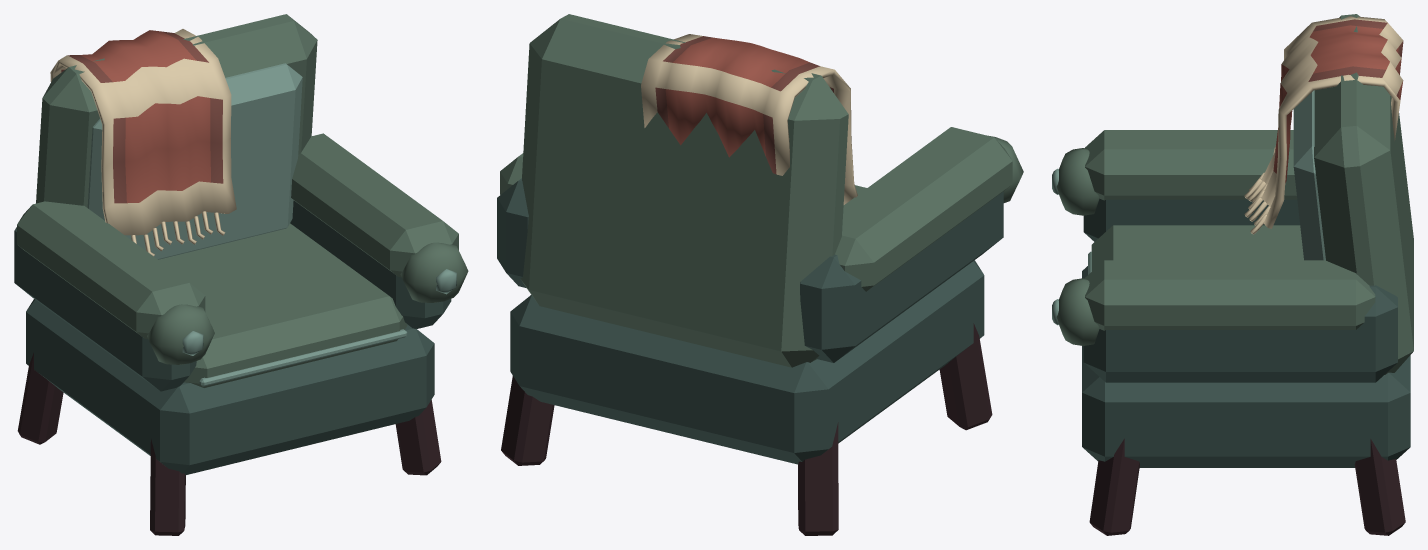
File: blanket.glb
3 views of the same model, side by side, from view 1: azimuth 30°, elevation 25°; view 2: azimuth 150°, elevation 25°; view 3: azimuth 270°, elevation 25° (orthographic). The views are drawn at different scales.
Visible parts, largest first — view 1: blanket; view 2: blanket; view 3: blanket.
Boxes of the visible parts, <box> form: blanket: <box>14,14,468,535</box>; blanket: <box>497,14,1023,535</box>; blanket: <box>1052,14,1413,535</box>.
Size of the model in its own units: 0.771 by 0.875 by 0.7115.
